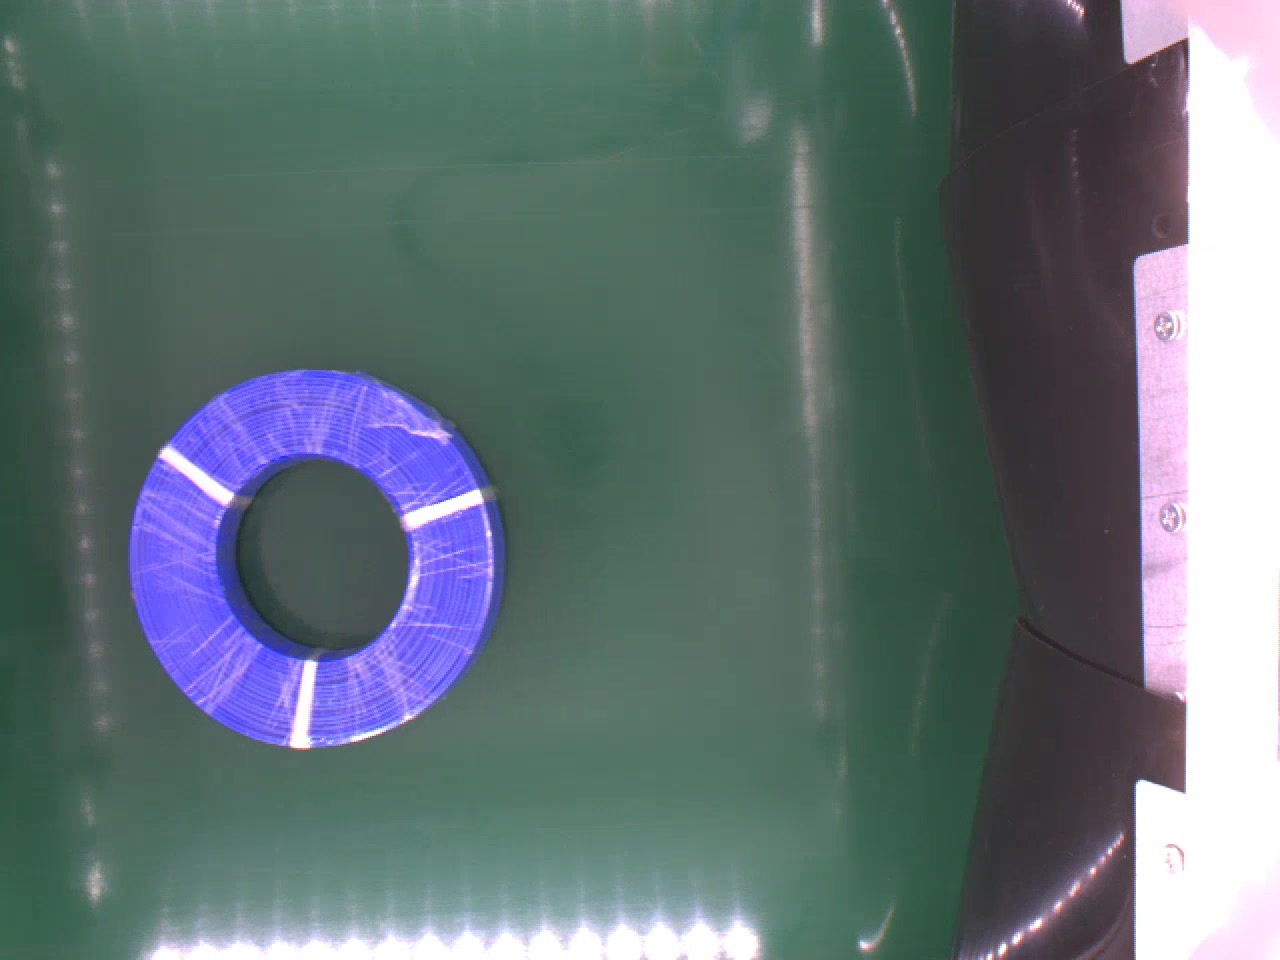blue: (122, 362, 501, 748)
